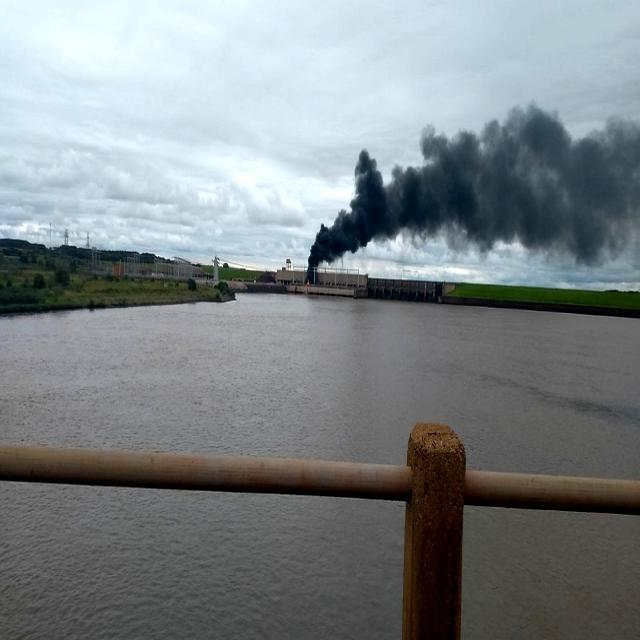Smoke: (308, 99, 640, 277)
